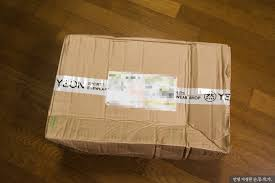undamaged: (44, 37, 229, 164)
